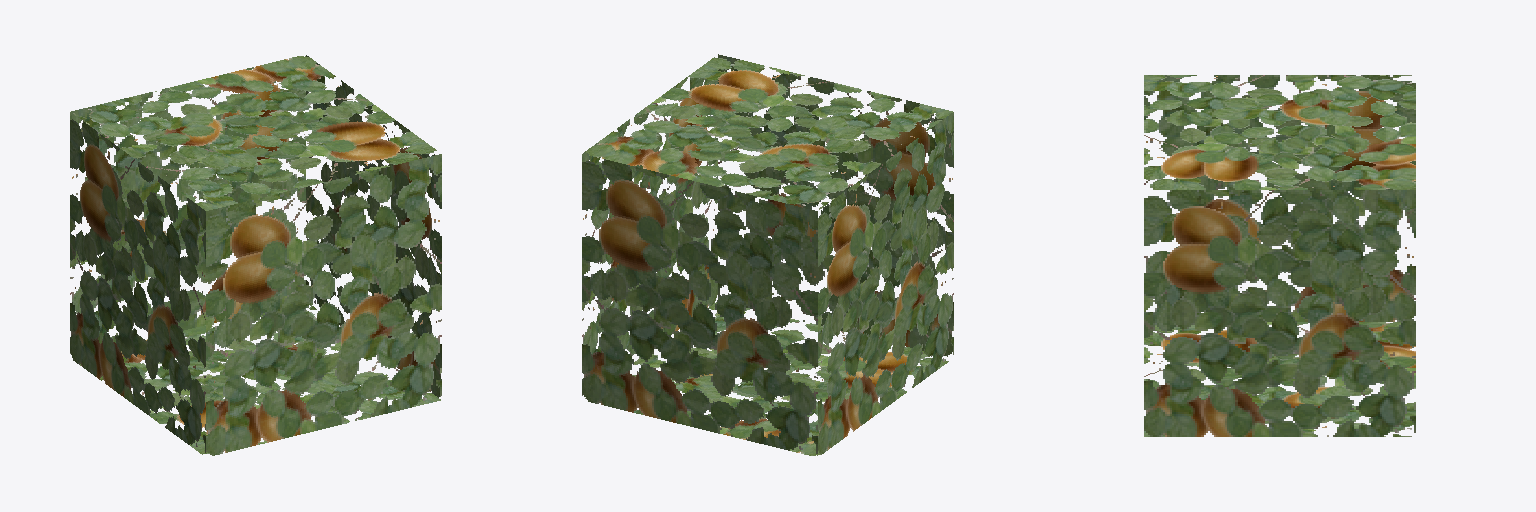
3 views of the same model, side by side, from view 1: azimuth 30°, elevation 25°; view 2: azimuth 150°, elevation 25°; view 3: azimuth 270°, elevation 25° (orthographic).
Parts seen in each view (by area): view 1: tree_kiwi_fruit_leaf; view 2: tree_kiwi_fruit_leaf; view 3: tree_kiwi_fruit_leaf.
Part boxes in pixels (bbox=[...]): tree_kiwi_fruit_leaf: bbox=[70, 55, 441, 455]; tree_kiwi_fruit_leaf: bbox=[582, 54, 953, 455]; tree_kiwi_fruit_leaf: bbox=[1144, 75, 1415, 436].
Size of the model in its own units: 1 by 1 by 1.
Materials: 1 (1 with a texture image).